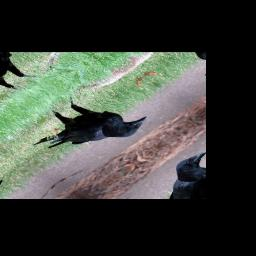Crow: (14, 81, 155, 173)
